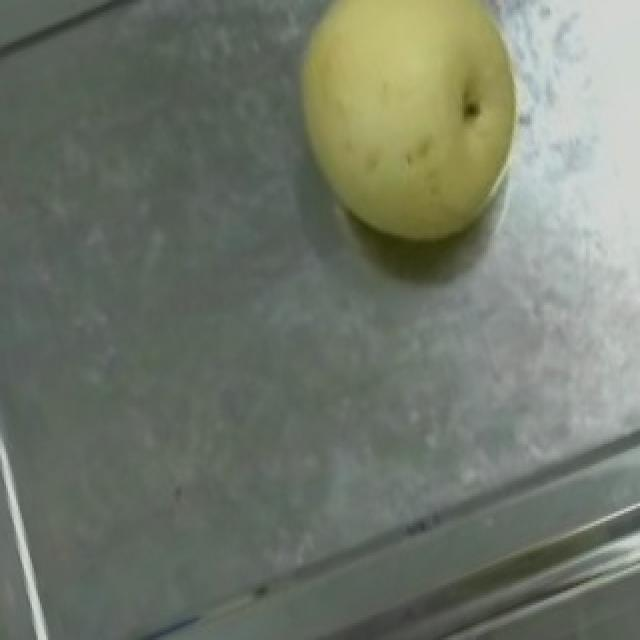Fruit: (252, 0, 558, 283)
